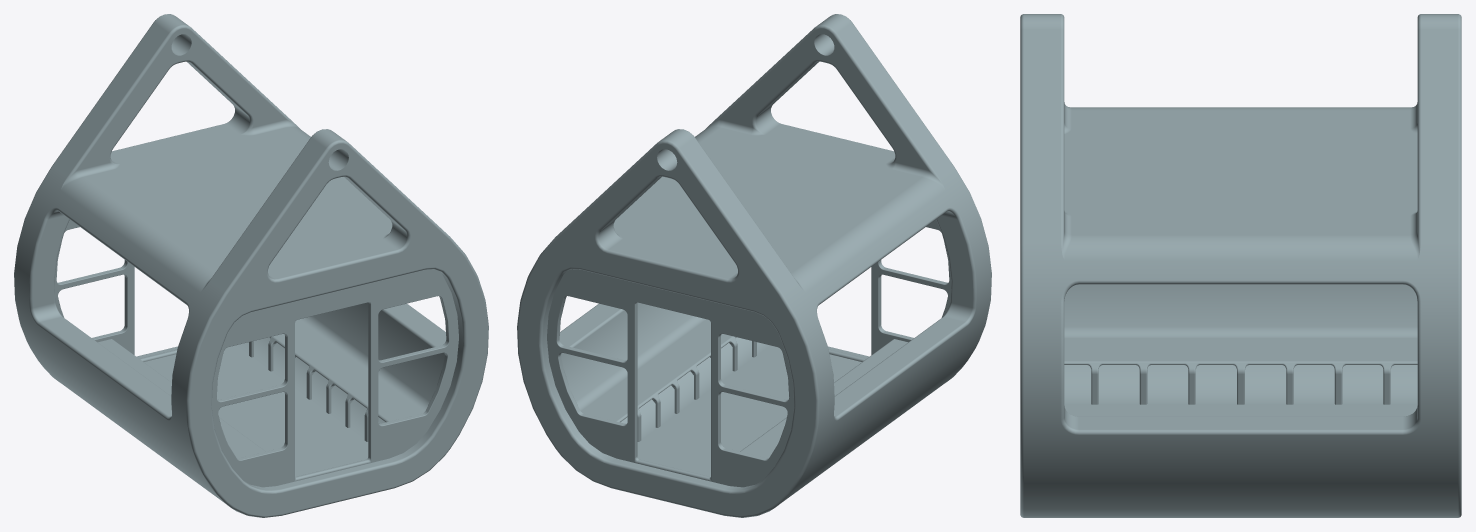
Rendered from Ferris03.FBX.
The picture shows the model from 3 angles, left to right: view 1: azimuth 30°, elevation 25°; view 2: azimuth 150°, elevation 25°; view 3: azimuth 270°, elevation 25°; orthographic projection. The views are drawn at different scales.
Visible parts, largest first — view 1: Ferris03; view 2: Ferris03; view 3: Ferris03.
Boxes of the visible parts, x1,y1,x2,y2 form: Ferris03: [14, 14, 488, 517]; Ferris03: [517, 14, 991, 517]; Ferris03: [1020, 14, 1461, 517].
Bounding box in the file's own units: 0.1967 × 0.2246 × 0.1968.
